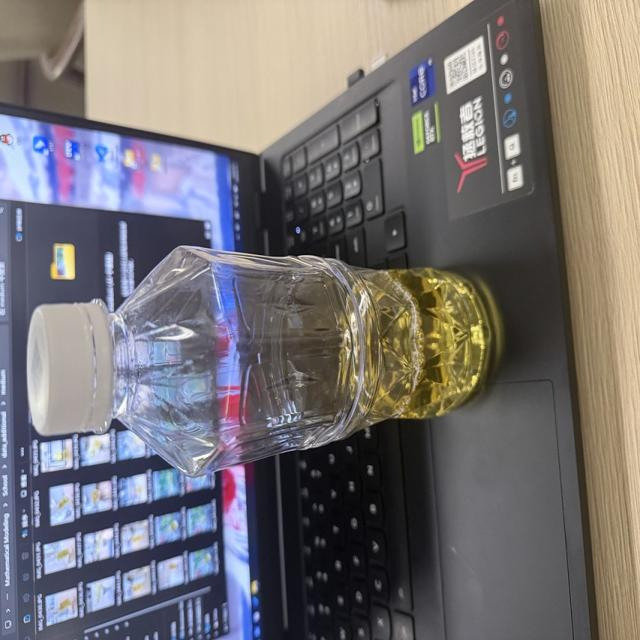low: (27, 246, 492, 475)
